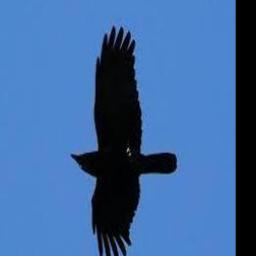Crow: (71, 26, 177, 256)
